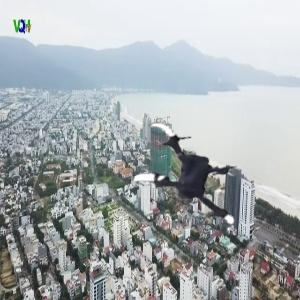drone: (115, 114, 250, 249)
